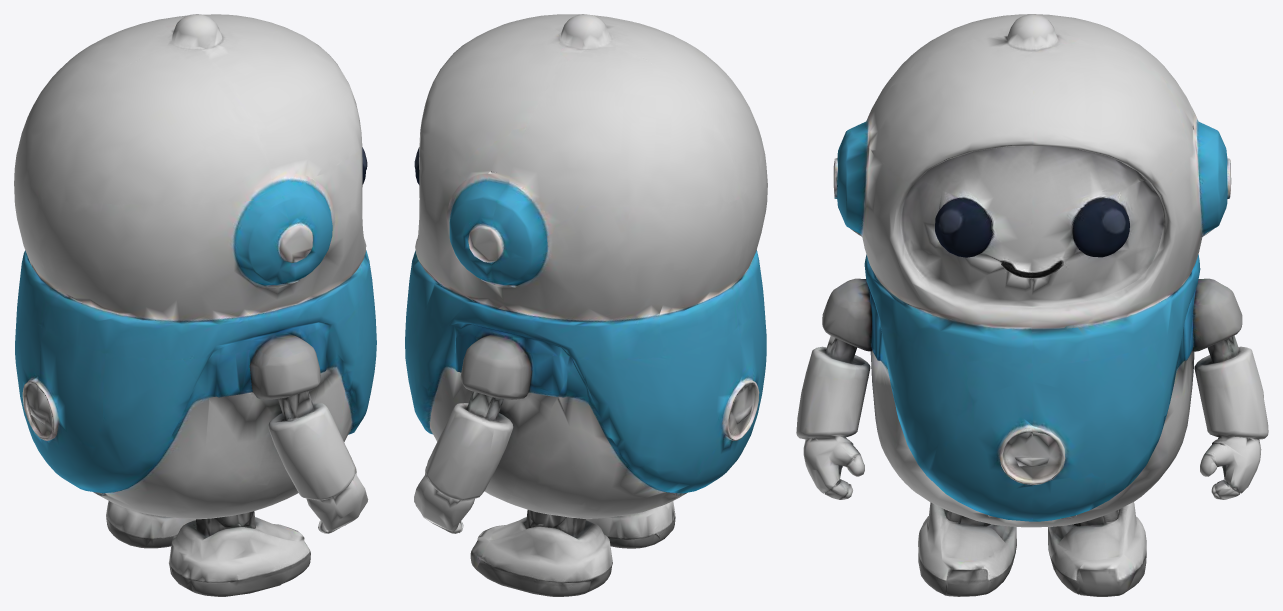
Rendered from p-robot3.glb.
3 views of the same model, side by side, from view 1: azimuth 30°, elevation 25°; view 2: azimuth 150°, elevation 25°; view 3: azimuth 270°, elevation 25° (orthographic).
Visible parts, largest first — view 1: tripo_node_1b67899e-87aa-4040-9fc1-ba369f4eece8; view 2: tripo_node_1b67899e-87aa-4040-9fc1-ba369f4eece8; view 3: tripo_node_1b67899e-87aa-4040-9fc1-ba369f4eece8.
Part boxes in pixels (box(x1,y1,x2,y2)): tripo_node_1b67899e-87aa-4040-9fc1-ba369f4eece8: box(14, 14, 376, 596); tripo_node_1b67899e-87aa-4040-9fc1-ba369f4eece8: box(405, 14, 767, 596); tripo_node_1b67899e-87aa-4040-9fc1-ba369f4eece8: box(796, 14, 1268, 596).
Size of the model in its own units: 0.6218 by 0.9999 by 0.7814.
1 material, 1 textured.
